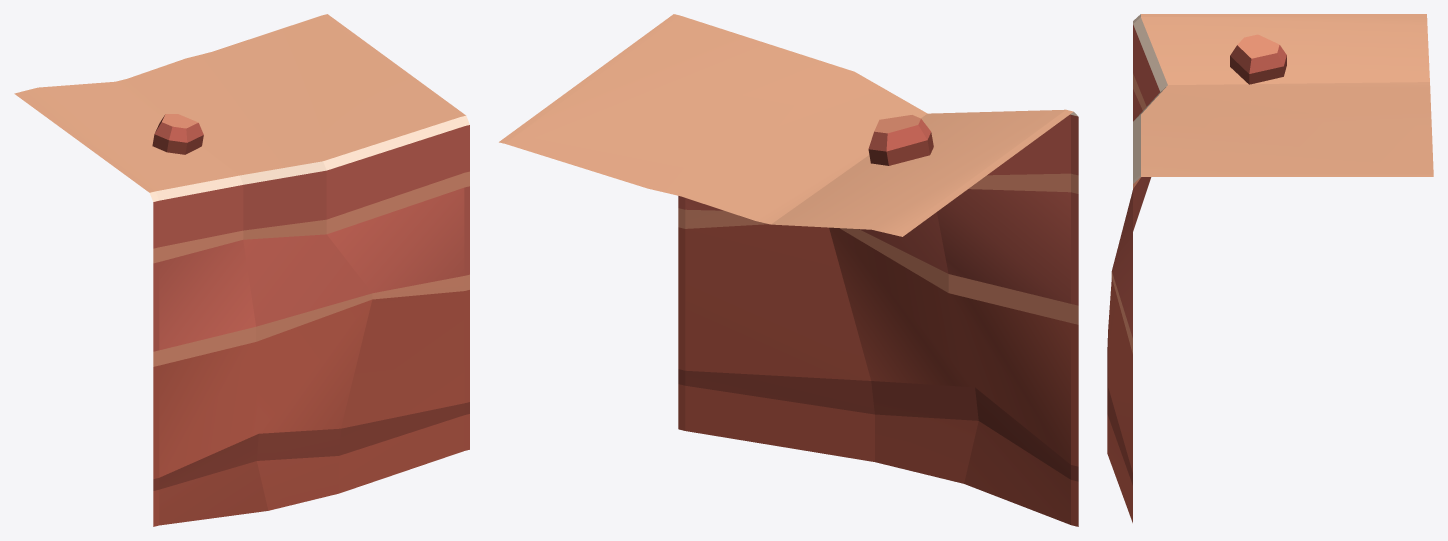
Rendered from Border_Exit3.fbx.
3 renders of one model, left to right at view 1: azimuth 30°, elevation 25°; view 2: azimuth 150°, elevation 25°; view 3: azimuth 270°, elevation 25°, orthographic. The views are drawn at different scales.
Parts seen in each view (by area): view 1: Border_Half; view 2: Border_Half; view 3: Border_Half.
Part boxes in pixels (<box>): Border_Half: <box>14,14,469,526</box>; Border_Half: <box>499,14,1078,526</box>; Border_Half: <box>1107,14,1433,522</box>.
Bounding box in the file's own units: 2500 × 2603 × 2115.
1 material, 1 textured.
